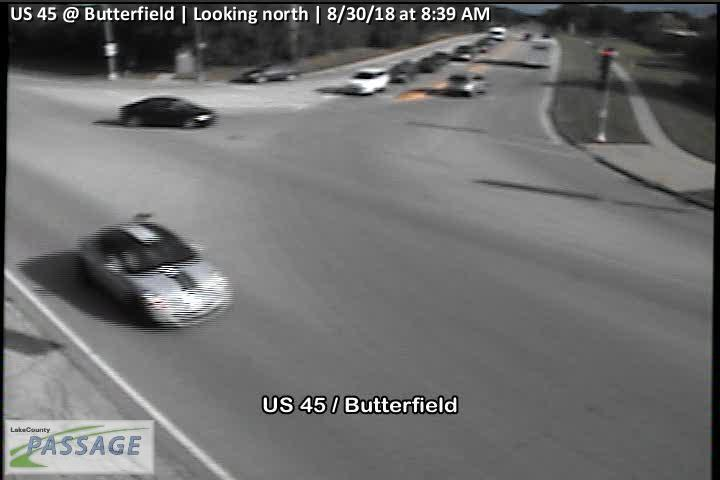Bus: (525, 39, 556, 69), (488, 26, 508, 41)
SUV: (342, 66, 392, 96), (446, 70, 490, 97), (455, 44, 473, 61)
Sedan: (76, 218, 235, 331), (117, 96, 217, 130), (241, 63, 304, 86), (392, 68, 411, 86), (418, 57, 435, 72), (401, 57, 416, 73), (433, 50, 448, 64)
